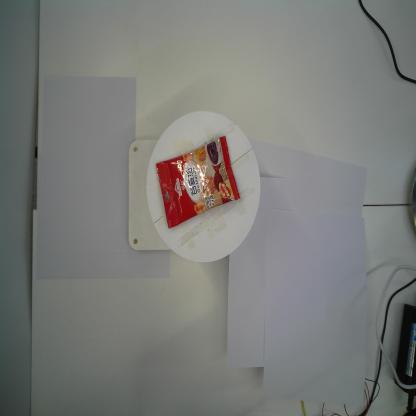Instant Drink: (154, 134, 242, 230)
